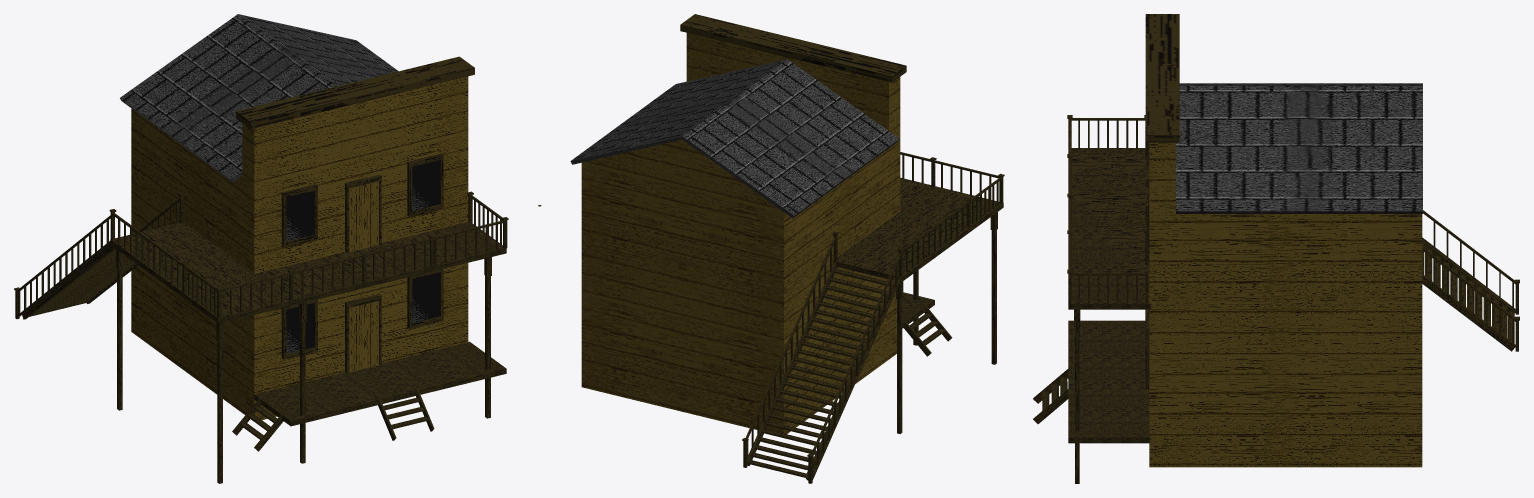
Rendered from WildWestBuilding5.fbx.
3 views of the same model, side by side, from view 1: azimuth 30°, elevation 25°; view 2: azimuth 150°, elevation 25°; view 3: azimuth 270°, elevation 25° (orthographic). The views are drawn at different scales.
Visible parts, largest first — view 1: Cube.006, Cube.001, Cube.012, Cube.013, Cube.003, Cube.014, Cube.002, Cube.015, Cube.005, Cube.009, Cube.008, Cube.004 (+4 smaller); view 2: Cube.006, Cube.012, Cube.003, Cube.001, Cube.013, Cube.009, Cube.002, Cube.011, Cube.010, Cube.008; view 3: Cube.006, Cube.012, Cube.001, Cube.003, Cube.013, Cube.009, Cube.007, Cube.005, Cube.002, Cube.011, Cube.
Part boxes in pixels (x1,y1,x2,y2): Cube.006: (131,76,468,419); Cube.001: (110,222,506,426); Cube.012: (120,14,398,182); Cube.013: (236,56,474,129); Cube.003: (22,244,434,451); Cube.014: (286,160,439,353); Cube.002: (116,249,491,483); Cube.015: (349,181,378,372); Cube.005: (281,153,443,359); Cube.009: (14,191,541,319); Cube.008: (230,224,497,314); Cube.004: (345,174,381,373); Cube.006: (581,33,900,434); Cube.012: (570,59,899,218); Cube.003: (747,262,952,480); Cube.001: (832,177,1003,328); Cube.013: (680,14,906,82); Cube.009: (742,160,1004,483); Cube.002: (896,212,997,433); Cube.011: (747,249,897,477); Cube.010: (906,207,963,272); Cube.008: (902,155,991,200); Cube.006: (1149,142,1422,467); Cube.012: (1176,83,1422,213); Cube.001: (1068,148,1150,443); Cube.003: (1033,240,1515,423); Cube.013: (1145,14,1179,142); Cube.009: (1067,115,1519,351); Cube.007: (1078,120,1137,303); Cube.005: (1145,119,1149,389); Cube.002: (1074,309,1080,483); Cube.011: (1433,222,1513,344); Cube: (1067,154,1072,304).
Size of the model in its own units: 2639 by 2268 by 2797.
4 materials, 4 textured.
